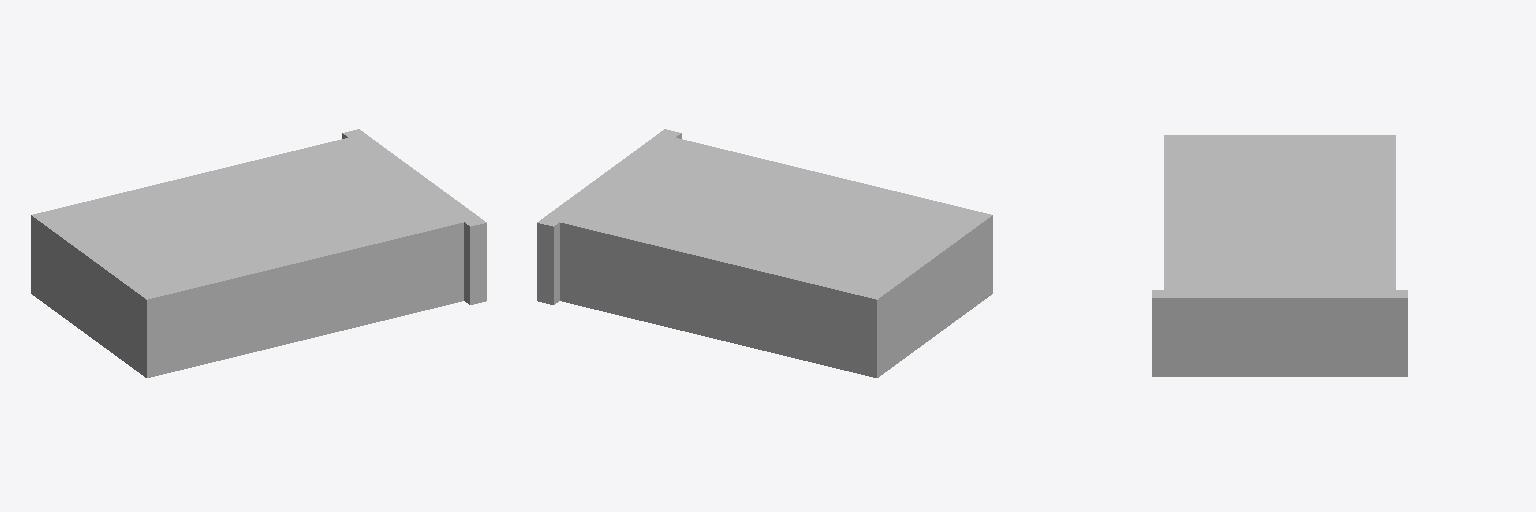
Rendered from (17) HP DL580 Gen10.obj.
3 views of the same model, side by side, from view 1: azimuth 30°, elevation 25°; view 2: azimuth 150°, elevation 25°; view 3: azimuth 270°, elevation 25° (orthographic).
Visible parts, largest first — view 1: unit_Cube.001; view 2: unit_Cube.001; view 3: unit_Cube.001.
Part boxes in pixels (x1,y1,x2,y2): unit_Cube.001: (31, 129, 486, 377); unit_Cube.001: (537, 129, 992, 377); unit_Cube.001: (1152, 135, 1407, 376).
Bounding box in the file's own units: 0.8 × 0.18 × 0.53.